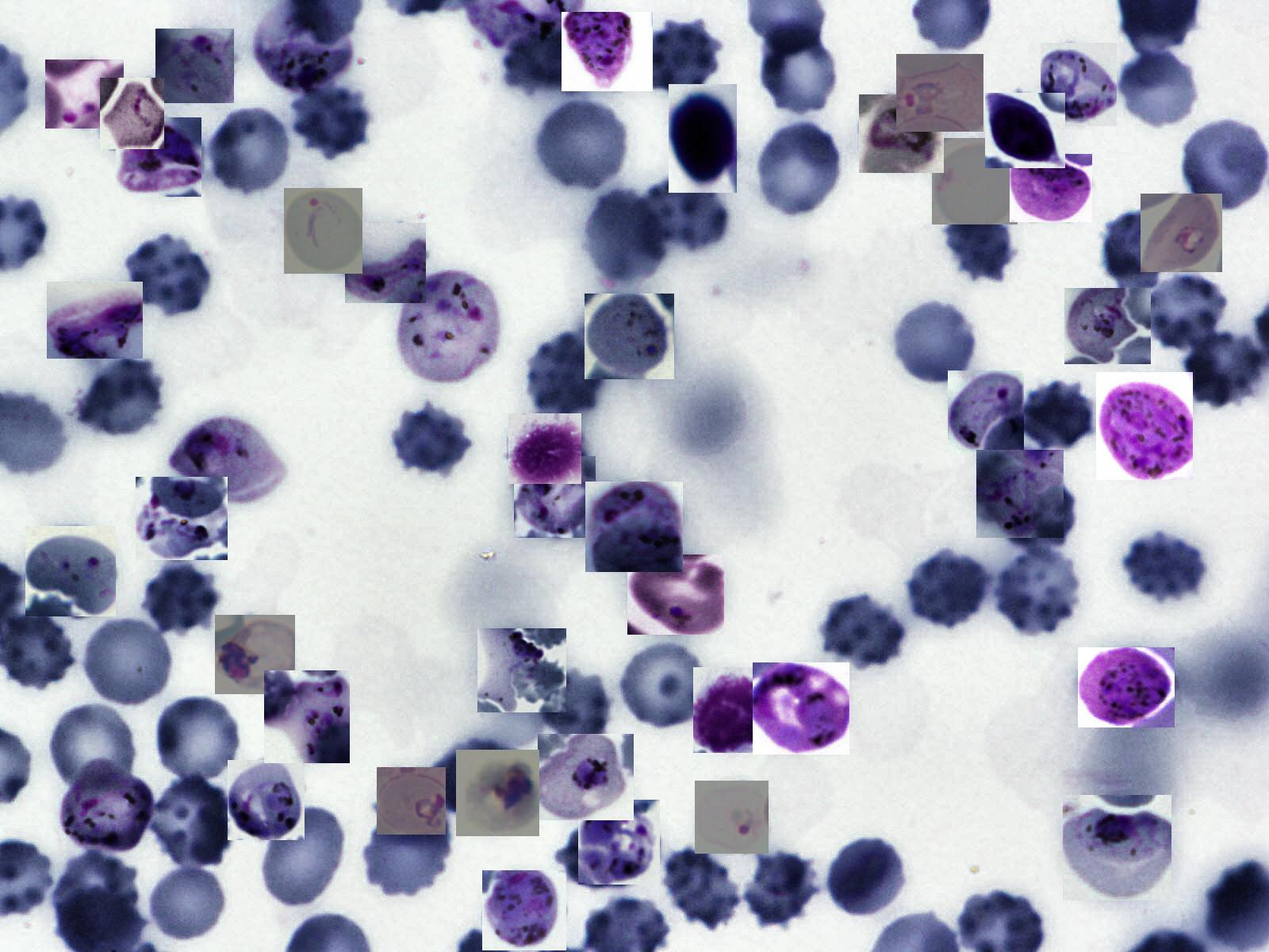Infected: (393, 272, 501, 387), (1063, 795, 1171, 900), (1096, 372, 1193, 480), (171, 416, 282, 507), (251, 2, 353, 95), (56, 762, 155, 856), (753, 662, 849, 754), (585, 482, 683, 572), (538, 734, 634, 820), (25, 526, 116, 616), (264, 670, 350, 763), (628, 555, 725, 635), (1078, 647, 1175, 727), (976, 450, 1064, 538), (136, 477, 228, 560), (585, 294, 674, 379), (669, 84, 738, 193), (932, 138, 1018, 225), (477, 628, 566, 712), (47, 282, 143, 359), (562, 12, 653, 91), (456, 750, 539, 836), (578, 800, 660, 885), (693, 667, 773, 753), (117, 117, 202, 197), (896, 54, 983, 132), (514, 456, 596, 538), (482, 870, 566, 950), (859, 95, 944, 174), (284, 188, 362, 274), (1064, 288, 1151, 364), (345, 223, 426, 303), (948, 370, 1024, 454), (215, 615, 295, 694), (1141, 194, 1222, 272), (1041, 43, 1117, 126), (228, 760, 305, 840), (985, 93, 1065, 168), (155, 29, 234, 103), (1010, 154, 1092, 222), (45, 60, 124, 129), (695, 781, 769, 854), (508, 413, 581, 484), (377, 767, 446, 835), (100, 78, 164, 149)
Uninfected: (259, 804, 350, 915), (751, 120, 847, 221), (78, 614, 178, 710), (535, 102, 634, 195), (578, 188, 669, 286), (360, 806, 454, 900), (1177, 119, 1268, 216), (991, 544, 1086, 636), (205, 106, 297, 198), (148, 774, 237, 869), (891, 295, 978, 388), (122, 233, 215, 317), (621, 643, 712, 728), (51, 704, 137, 793), (1114, 47, 1202, 132), (638, 175, 730, 256), (1137, 272, 1231, 351), (52, 850, 140, 934), (758, 24, 836, 116), (155, 696, 240, 779), (658, 848, 742, 931), (903, 551, 991, 630), (525, 333, 607, 417), (823, 838, 908, 919), (427, 742, 519, 816), (938, 201, 1019, 285), (1181, 329, 1266, 409), (287, 81, 374, 159), (73, 359, 161, 436), (741, 848, 821, 931), (500, 27, 599, 94), (140, 561, 224, 638), (642, 19, 723, 98), (387, 403, 473, 476), (144, 863, 226, 939), (559, 820, 643, 892), (541, 666, 613, 749), (1099, 211, 1174, 289), (822, 596, 899, 670), (1004, 474, 1077, 550), (1125, 532, 1202, 602), (1026, 376, 1092, 451)
